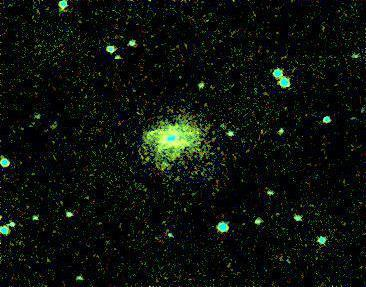star: (191, 92, 221, 122)
